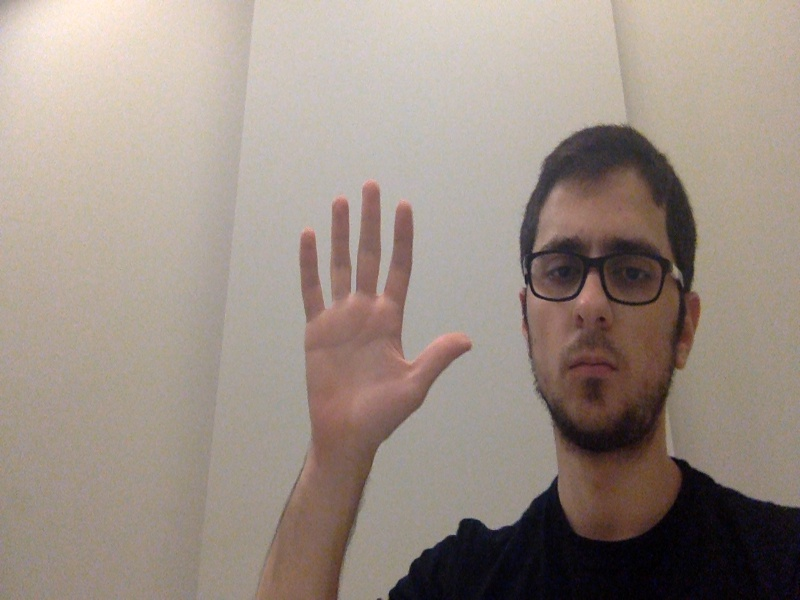5-hand: (298, 179, 477, 453)
